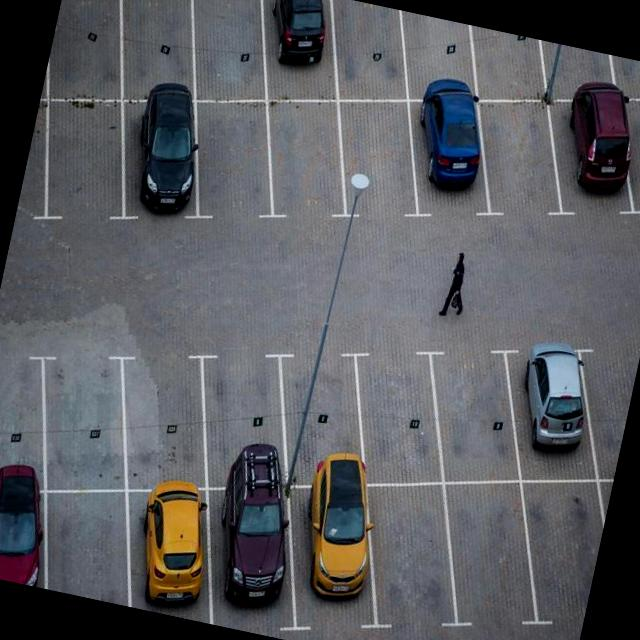car: (187, 468, 306, 636), (272, 464, 384, 640), (110, 473, 226, 621), (104, 86, 216, 236), (388, 79, 496, 229), (496, 334, 599, 484), (543, 81, 640, 220), (246, 0, 341, 109), (0, 474, 59, 585)
free: (346, 467, 464, 637), (430, 468, 548, 634), (24, 85, 144, 235), (504, 468, 610, 630), (250, 86, 366, 230), (177, 90, 293, 234), (348, 334, 454, 489), (422, 333, 526, 490), (272, 338, 375, 490), (323, 85, 434, 226), (112, 342, 212, 497), (189, 344, 289, 496), (467, 88, 575, 228), (32, 352, 129, 500), (33, 480, 142, 604), (313, 0, 413, 113), (178, 0, 277, 113), (107, 0, 202, 110), (571, 334, 640, 484), (41, 0, 133, 109), (386, 10, 472, 106), (0, 346, 49, 501), (13, 96, 68, 232), (611, 86, 640, 217)
